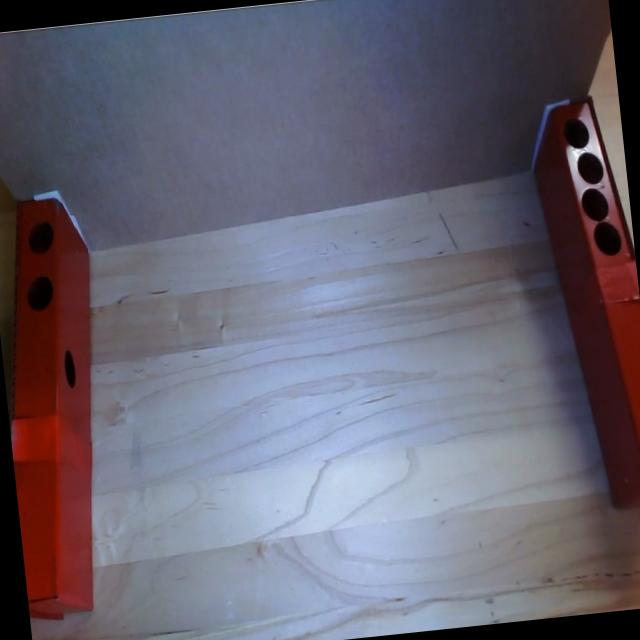Hole: (24, 272, 54, 313), (592, 220, 622, 260), (580, 185, 610, 223), (576, 150, 604, 187), (27, 220, 55, 255), (563, 116, 590, 148), (61, 348, 77, 388)
